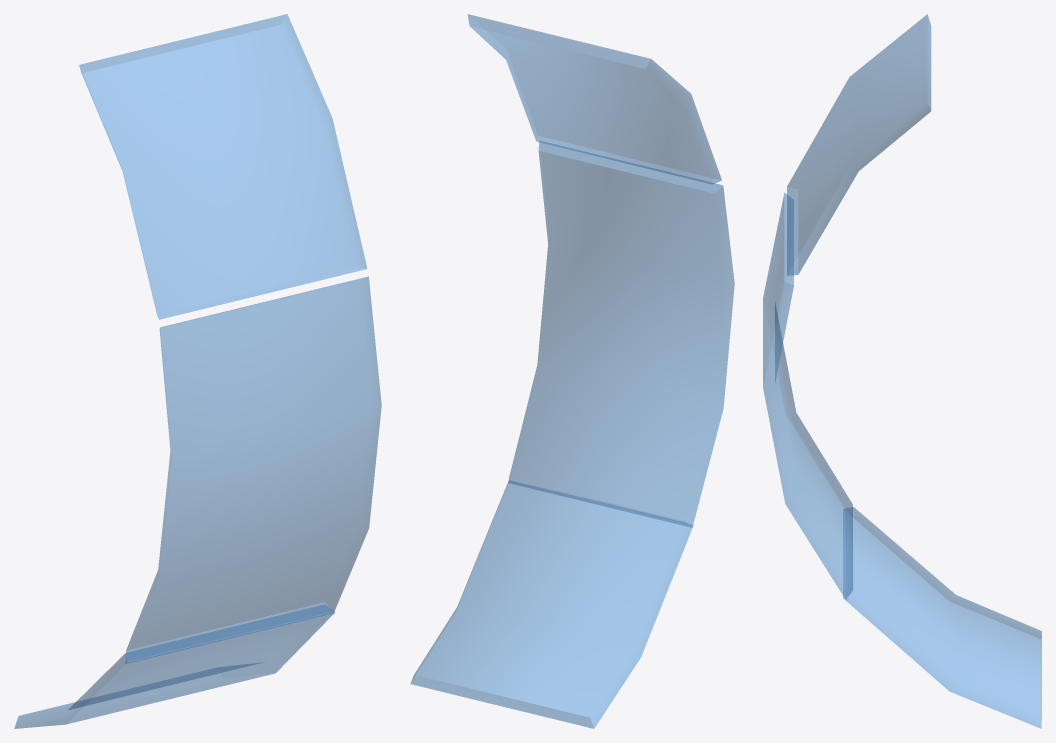
File: Glass.fbx
3 renders of one model, left to right at view 1: azimuth 30°, elevation 25°; view 2: azimuth 150°, elevation 25°; view 3: azimuth 270°, elevation 25°, orthographic. The views are drawn at different scales.
Parts seen in each view (by area): view 1: Glass; view 2: Glass; view 3: Glass.
Boxes of the visible parts, bbox=[...] form: Glass: bbox=[14, 14, 381, 728]; Glass: bbox=[410, 14, 734, 728]; Glass: bbox=[763, 14, 1041, 728].
Size of the model in its own units: 2.93 by 9.5 by 3.84.
